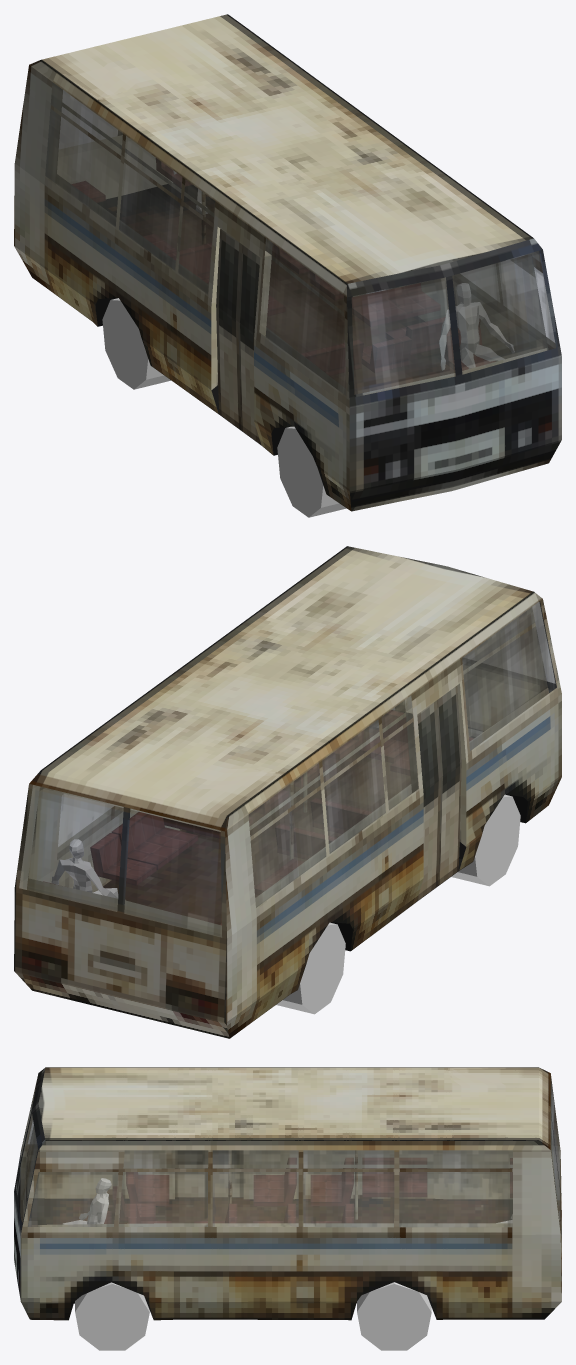
The model's file is pazikpix.fbx.
3 views of the same model, one above another, from view 1: azimuth 30°, elevation 25°; view 2: azimuth 150°, elevation 25°; view 3: azimuth 270°, elevation 25° (orthographic). The views are drawn at different scales.
Visible parts, largest first — view 1: Cube.001, Plane, Cube.003, Cylinder.002, Cylinder.001, Cube.002, Cube.009, BASE_Low Poly Man.003, Cube.030, Cube.025, Cube.022, Cube.023; view 2: Cube.001, Plane, Cube.002, Cube.003, Cylinder.001, Cylinder.002, Cube.026, Cube.029, BASE_Low Poly Man.002, Cube.024, Cube.023, Cube.030; view 3: Cube.001, Plane, Cylinder.003, Cylinder.004, Cube.027, Cube.023, Cube.024, Cube.002, Cube.025, Cube.003, BASE_Low Poly Man.003, Cube.030.
Part boxes in pixels (<box>): Cube.001: <box>14,14,561,511</box>; Plane: <box>97,183,454,394</box>; Cube.003: <box>216,229,242,429</box>; Cylinder.002: <box>277,426,346,517</box>; Cylinder.001: <box>102,298,170,389</box>; Cube.002: <box>238,245,261,444</box>; Cube.009: <box>352,283,440,326</box>; BASE_Low Poly Man.003: <box>439,283,514,370</box>; Cube.030: <box>362,336,411,372</box>; Cube.025: <box>301,339,363,375</box>; Cube.022: <box>385,317,480,354</box>; Cube.023: <box>167,242,211,278</box>; Cube.001: <box>14,546,561,1038</box>; Plane: <box>103,720,482,924</box>; Cube.002: <box>437,685,461,885</box>; Cube.003: <box>416,700,440,901</box>; Cylinder.001: <box>276,922,345,1014</box>; Cylinder.002: <box>451,794,520,886</box>; Cube.026: <box>111,812,197,869</box>; Cube.029: <box>90,833,156,885</box>; BASE_Low Poly Man.002: <box>51,839,118,898</box>; Cube.024: <box>310,798,371,833</box>; Cube.023: <box>275,824,336,859</box>; Cube.030: <box>359,710,408,762</box>; Cube.001: <box>14,1067,561,1320</box>; Plane: <box>27,1197,512,1224</box>; Cylinder.003: <box>357,1282,431,1350</box>; Cylinder.004: <box>75,1282,149,1350</box>; Cube.027: <box>362,1158,427,1197</box>; Cube.023: <box>310,1158,353,1206</box>; Cube.024: <box>253,1158,296,1206</box>; Cube.002: <box>175,1150,207,1197</box>; Cube.025: <box>126,1172,169,1205</box>; Cube.003: <box>213,1150,243,1197</box>; BASE_Low Poly Man.003: <box>62,1178,111,1224</box>; Cube.030: <box>113,1186,155,1221</box>.
Size of the model in its own units: 492 by 571 by 1366.
Materials: 4 (3 with a texture image).
